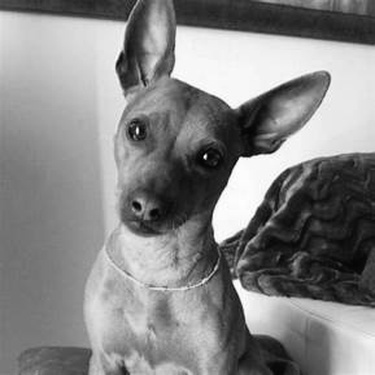dog: (60, 1, 341, 370)
